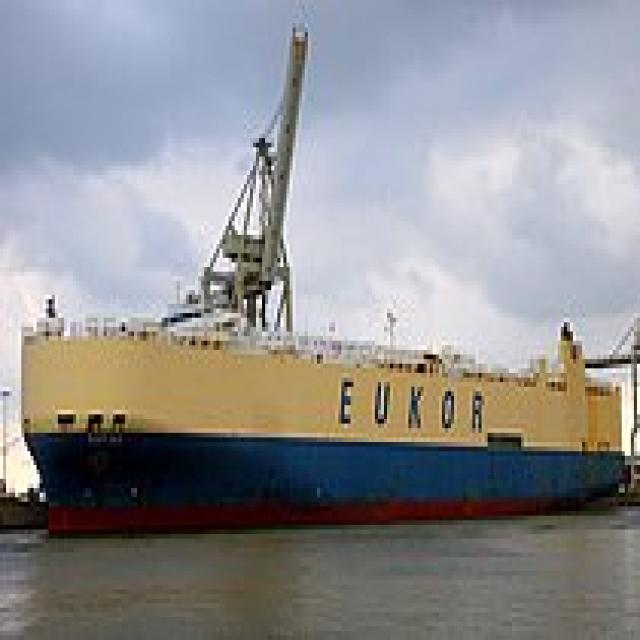Carrier: (15, 276, 622, 539)
